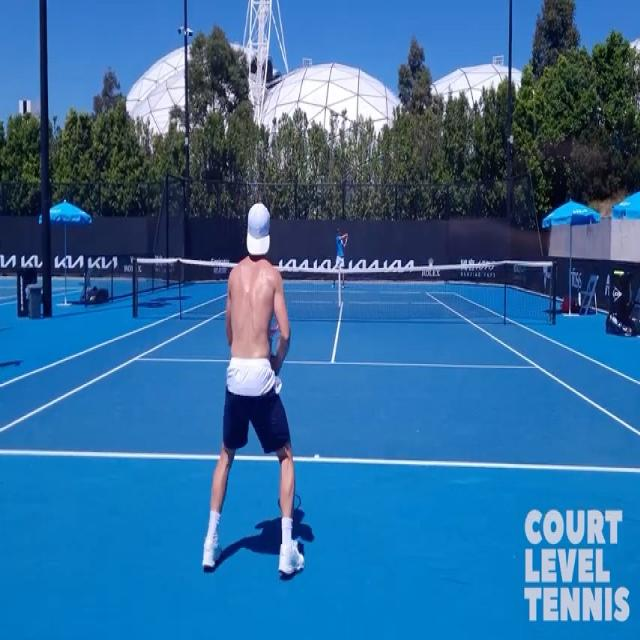ready-position: (203, 194, 306, 600)
